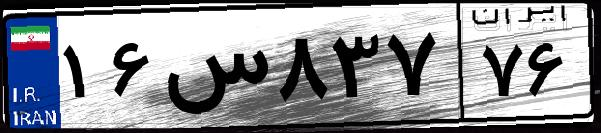1: (57, 26, 110, 100)
3: (330, 28, 385, 110)
6: (525, 38, 570, 115), (110, 28, 158, 98)
7: (385, 28, 445, 110), (475, 38, 525, 113)
8: (270, 28, 330, 110)
س: (158, 20, 270, 120)
